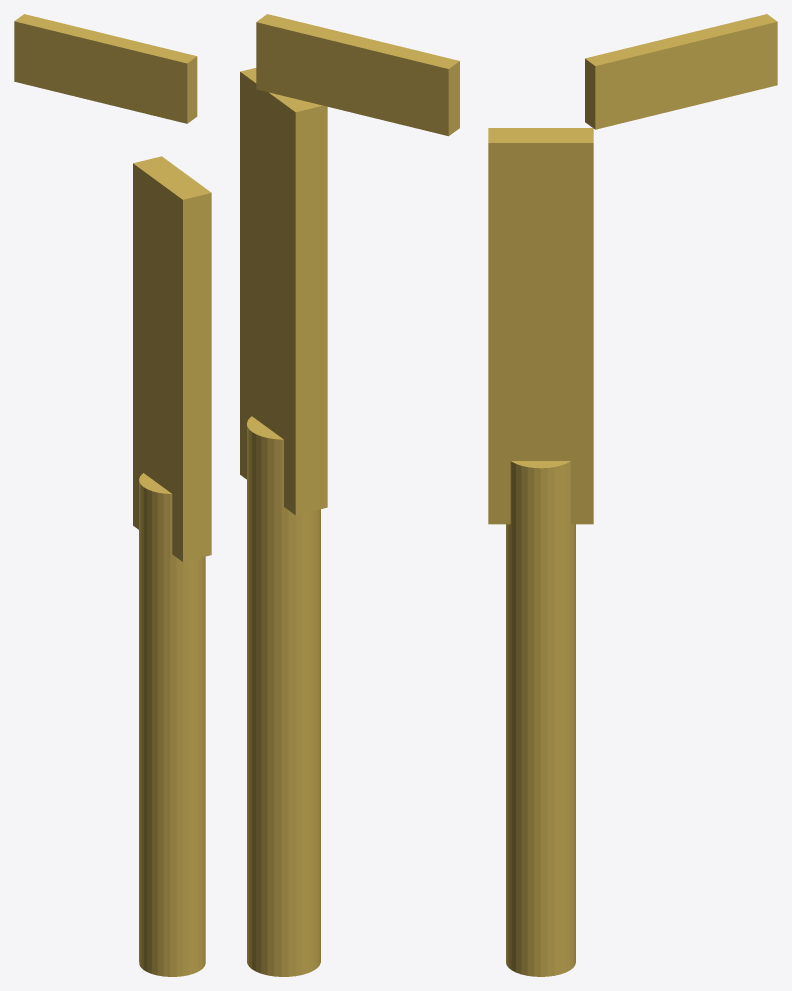
File: khopesh.glb
The picture shows the model from 3 angles, left to right: view 1: azimuth 30°, elevation 25°; view 2: azimuth 210°, elevation 25°; view 3: azimuth 270°, elevation 25°; orthographic projection. The views are drawn at different scales.
Visible parts, largest first — view 1: Khopesh; view 2: Khopesh; view 3: Khopesh.
Boxes of the visible parts, left/top/right/bottom form: Khopesh: left=14, top=14, right=211, bottom=976; Khopesh: left=240, top=14, right=459, bottom=976; Khopesh: left=488, top=14, right=777, bottom=976.
Size of the model in its own units: 0.176 by 1.45 by 0.4124.
